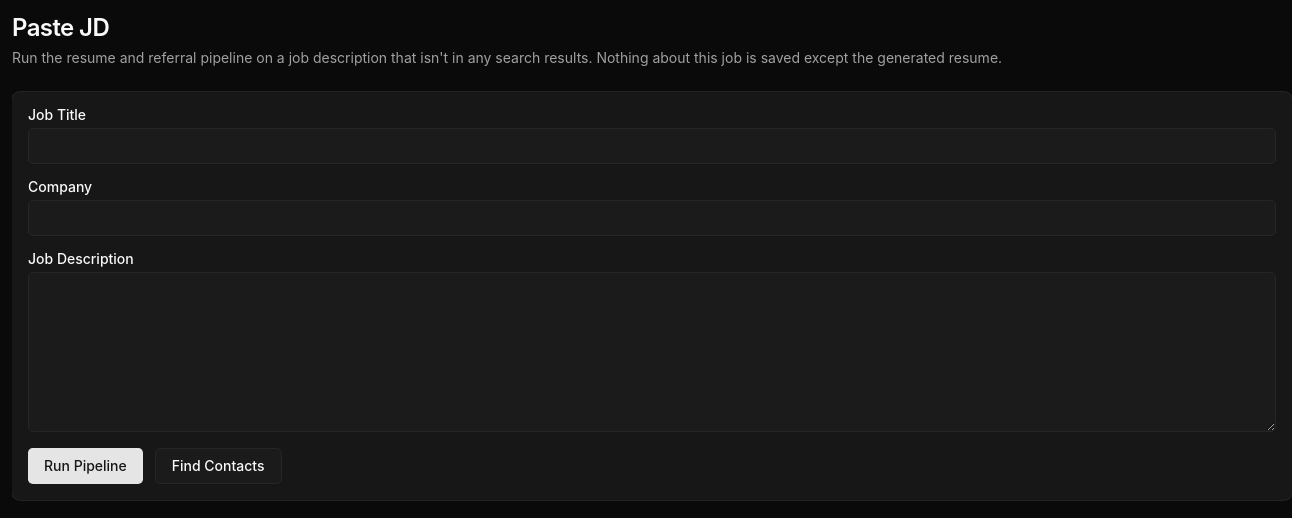
QuickApply › shows an error when Find Contacts is clicked without a company
Click the button "Find Contacts". click: (218, 466)
box: [155,448,282,484]
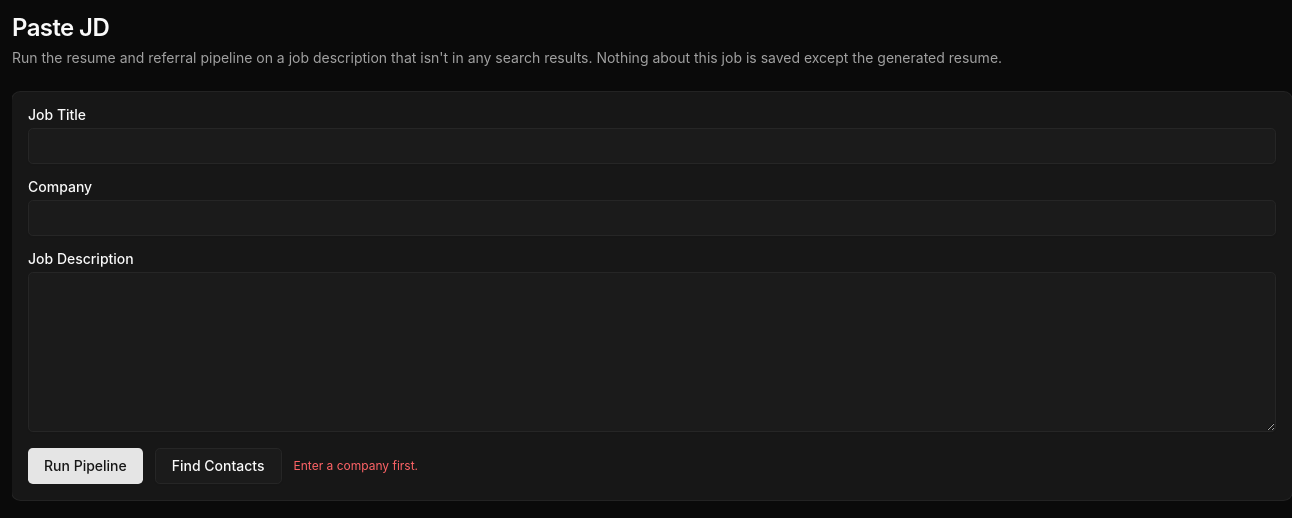
Now the message shows "Enter a company first", box [294,458,418,473]
